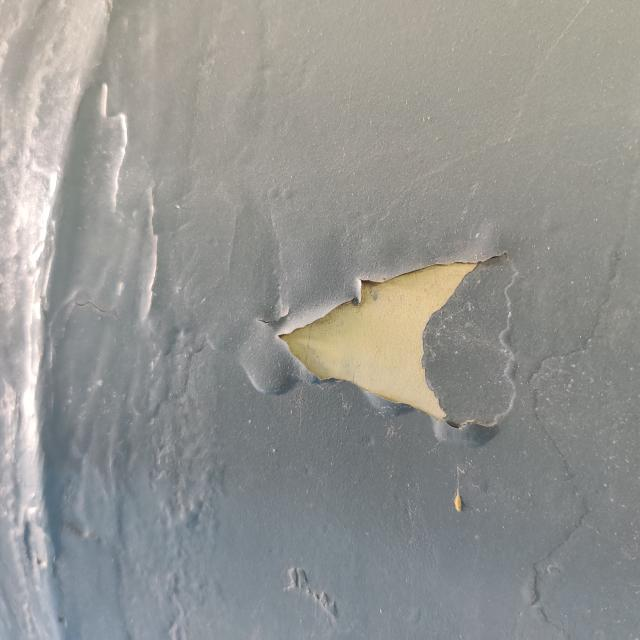paint-off: (258, 232, 529, 473)
